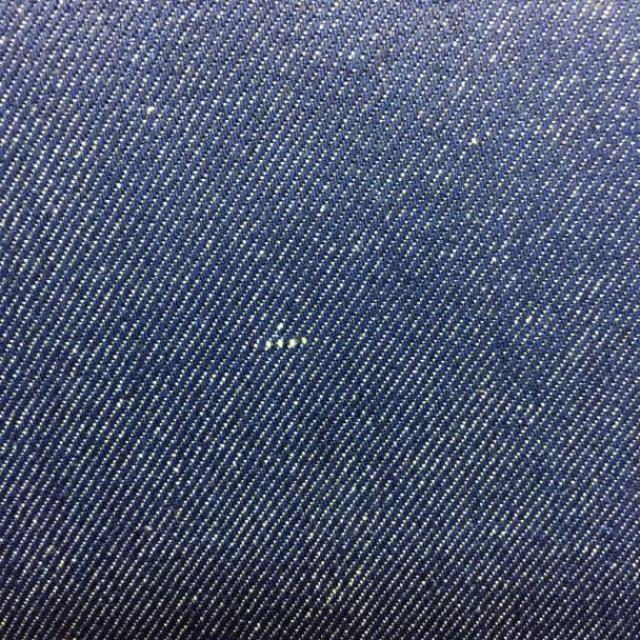Knot: (264, 336, 309, 351)
